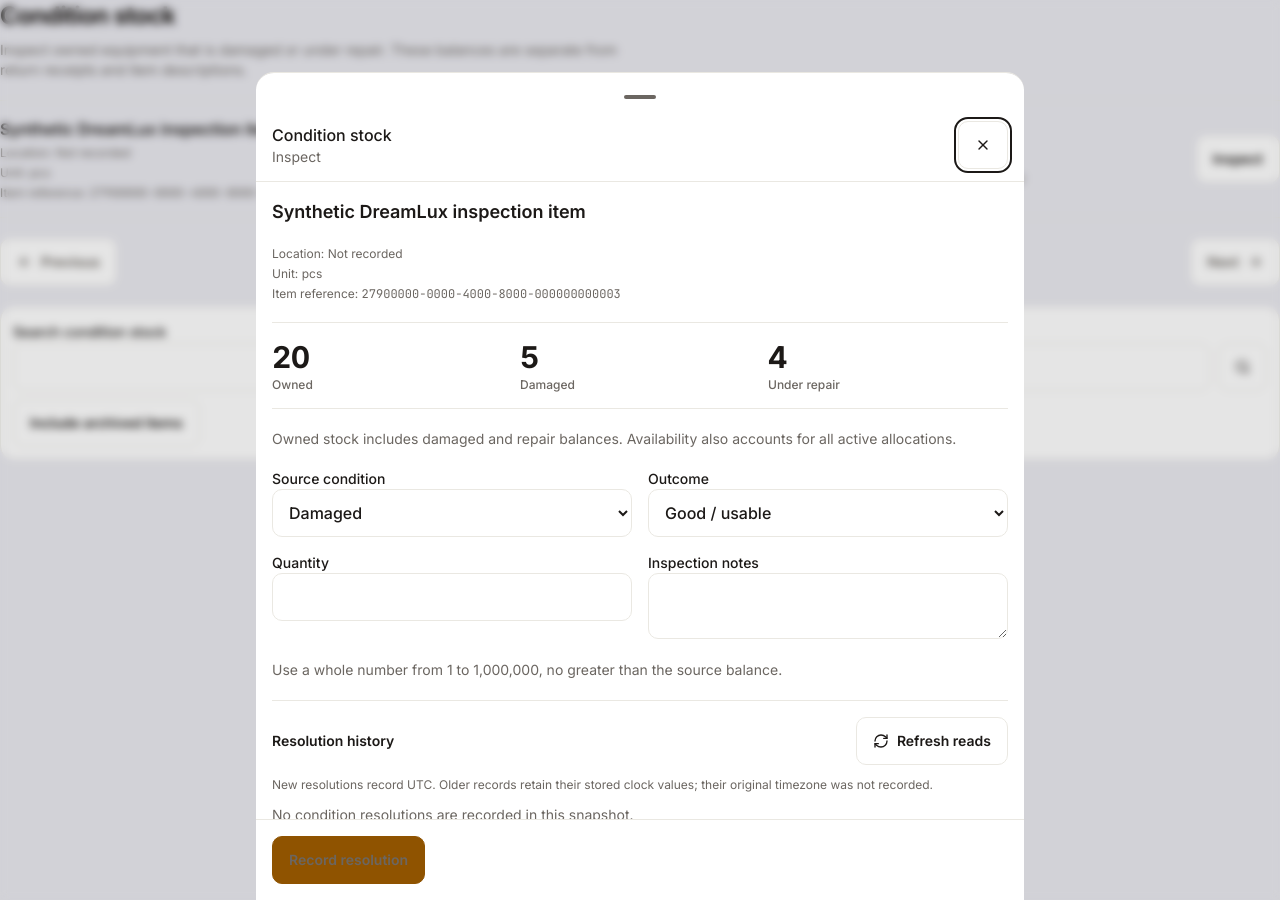
Test: condition-stock operator interface › preserves authored inputs after rejection and returns them to editing only deliberately
The image size is (1280, 900).
Expected: the heading "Synthetic DreamLux inspection item" is shown, x1=272 y1=201 x2=586 y2=222
Type "2" into the field labelled "Quantity" at coordinates (452, 597), box x1=272 y1=573 x2=632 y2=621
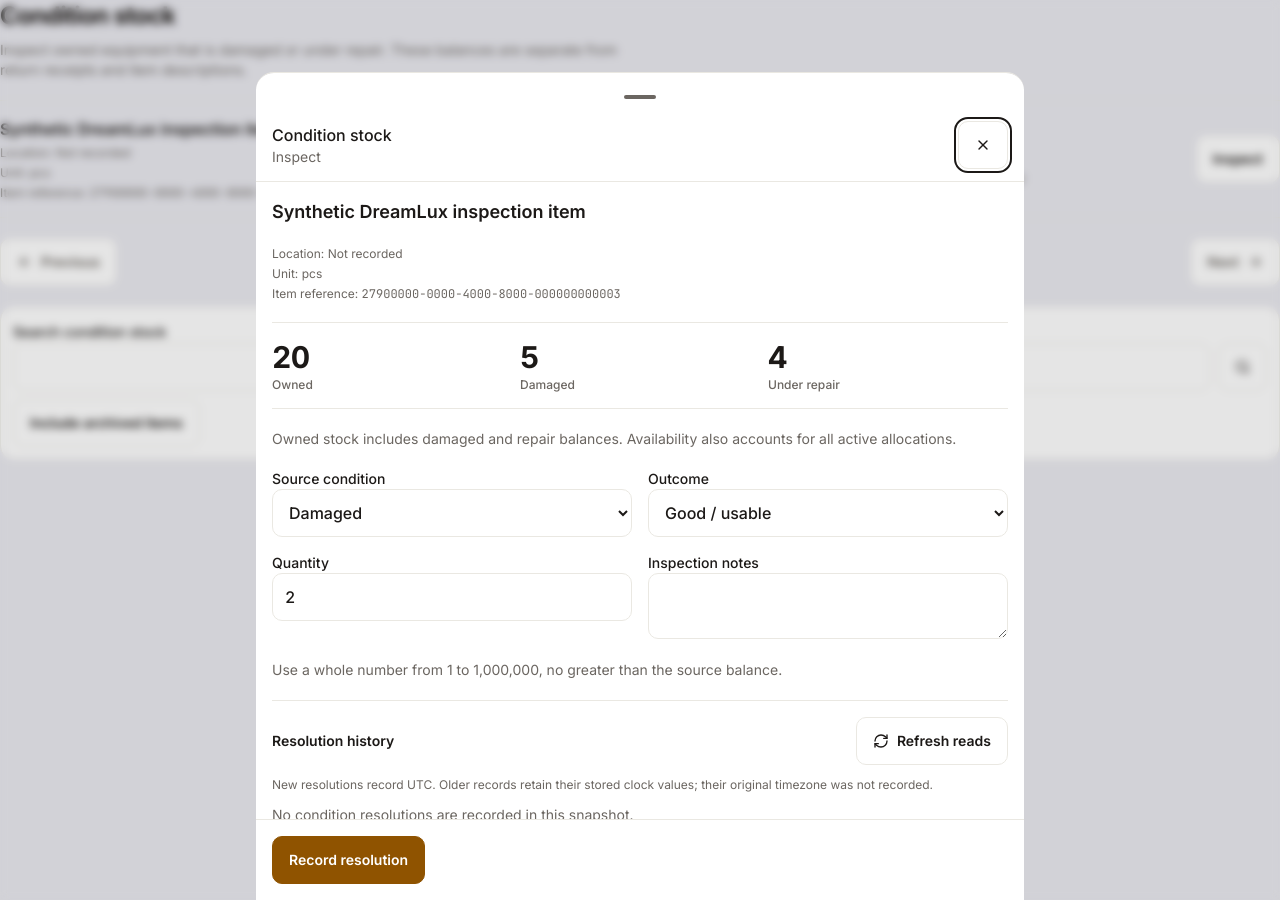
Type "  Do not lose this note  " into the text box labelled "Inspection notes" at coordinates (828, 606), box x1=648 y1=573 x2=1008 y2=639
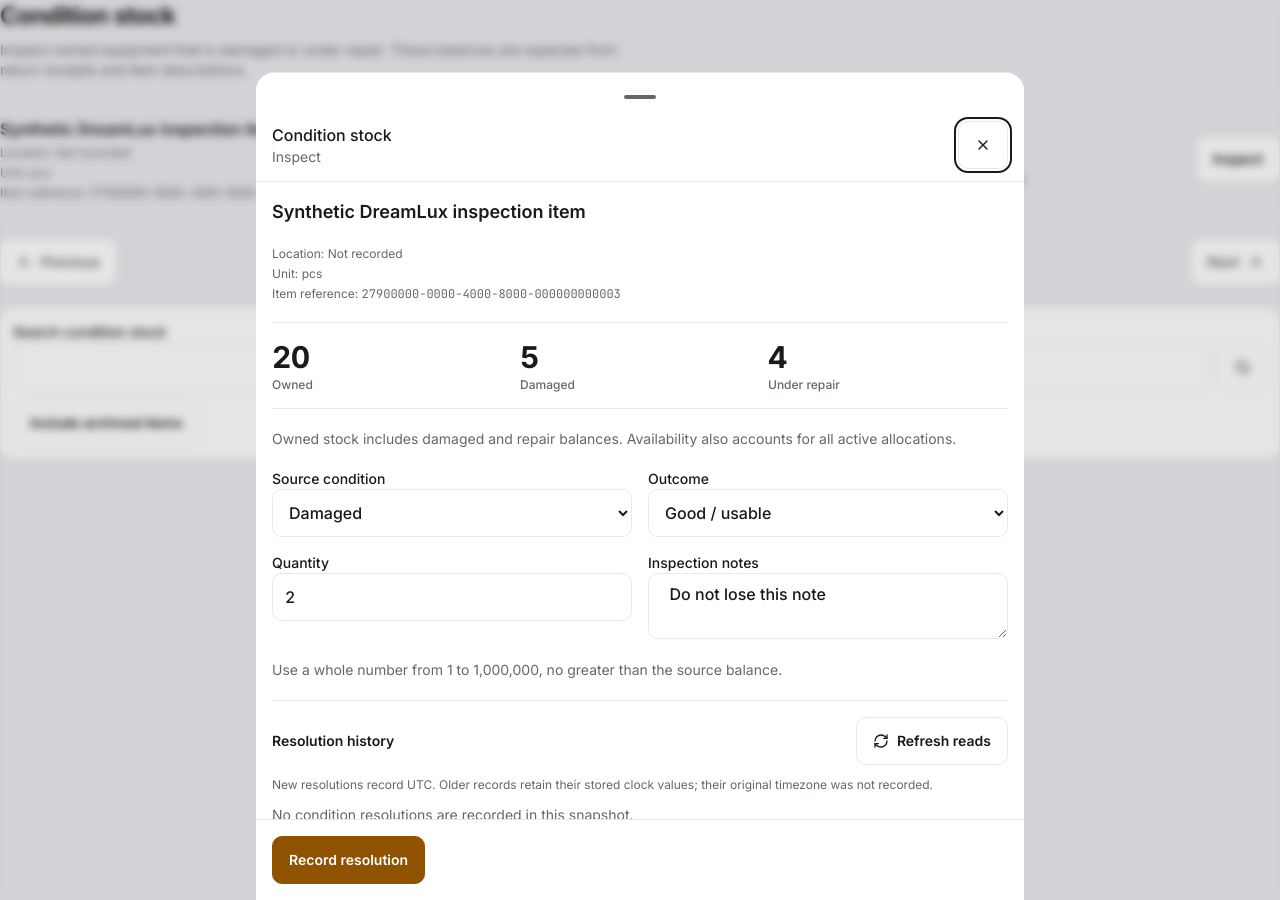
Click the button "Record resolution" at coordinates (349, 860), box x1=272 y1=836 x2=425 y2=884
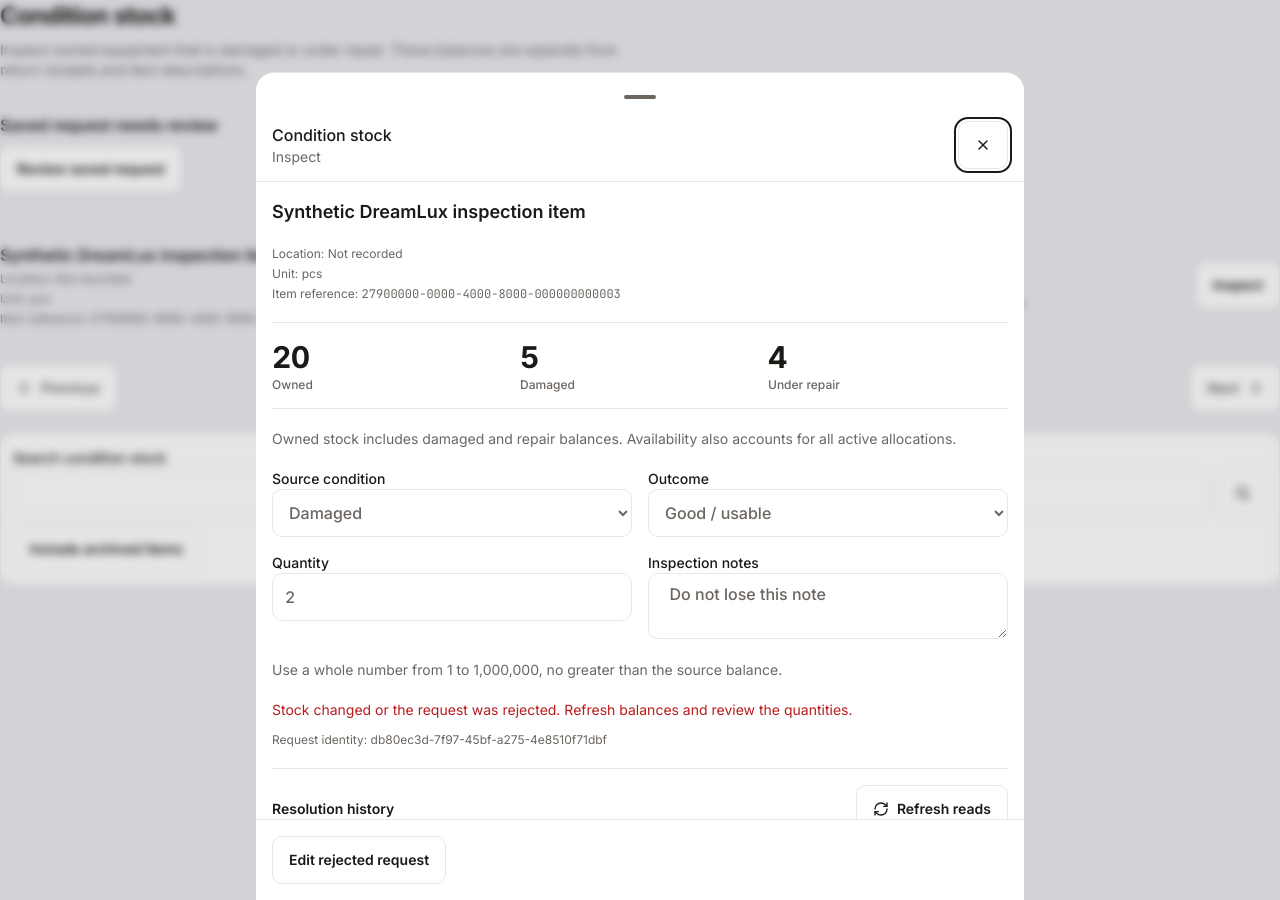
Now the text "Stock changed or the request was rejected. Refresh balances and review the quantities." is shown, box x1=272 y1=701 x2=852 y2=718
Click the button "Edit rejected request" at coordinates (359, 860), box x1=272 y1=836 x2=446 y2=884
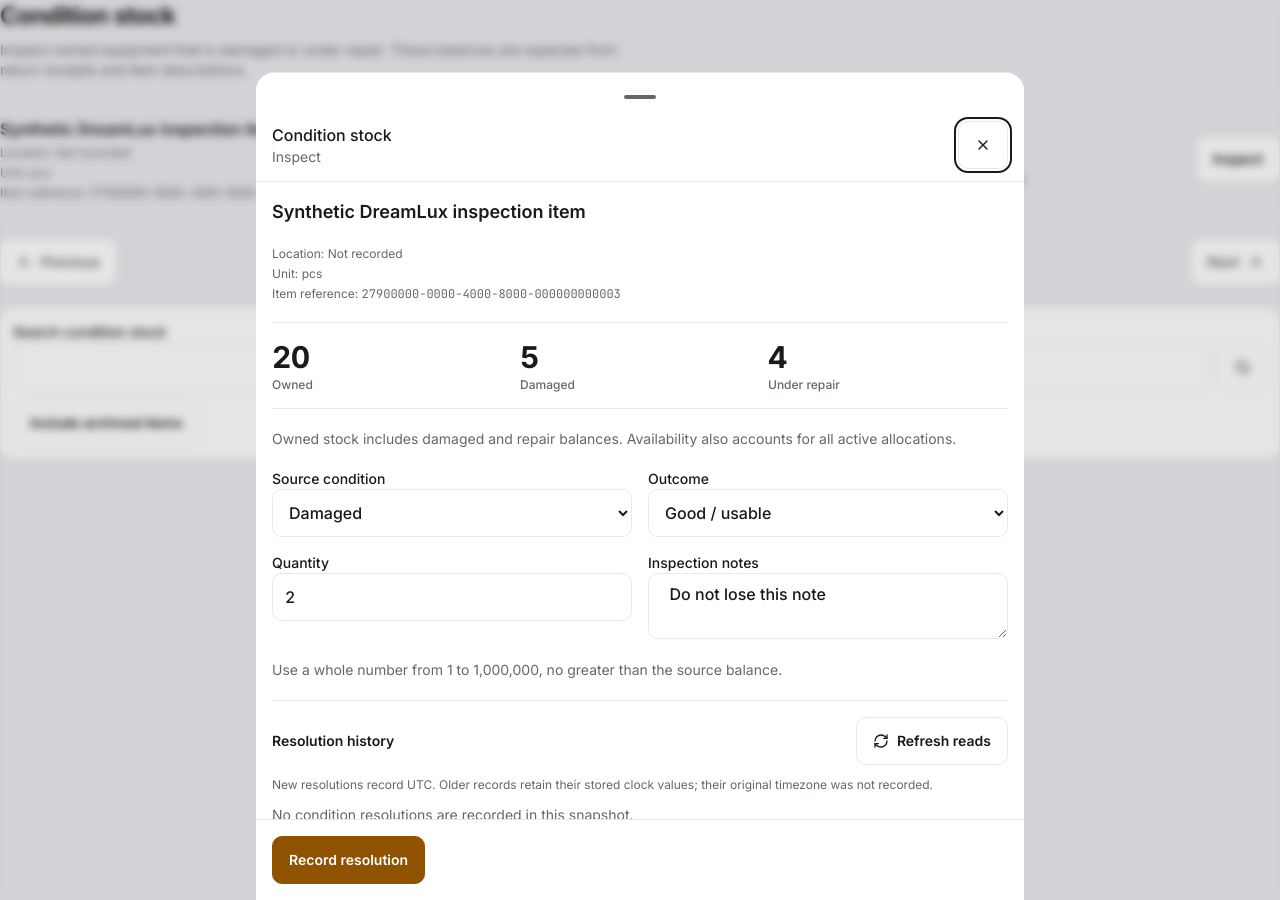
Now the text box labelled "Inspection notes" is enabled, box x1=648 y1=573 x2=1008 y2=639
